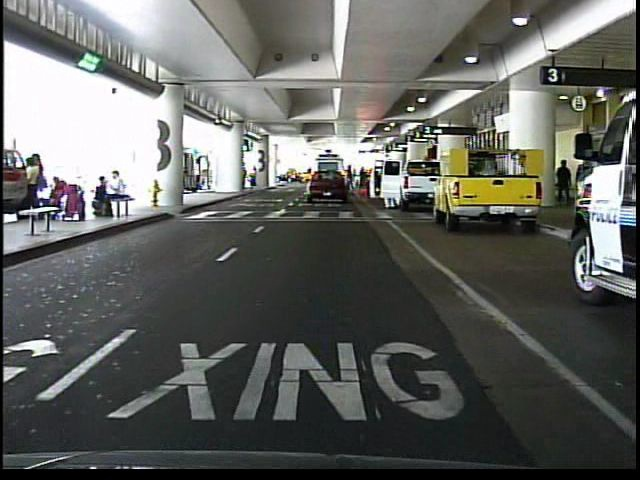person: (551, 155, 575, 210), (249, 166, 261, 191)
